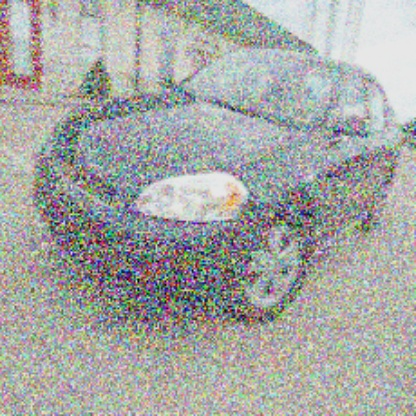Vehicle: (33, 48, 402, 326)
